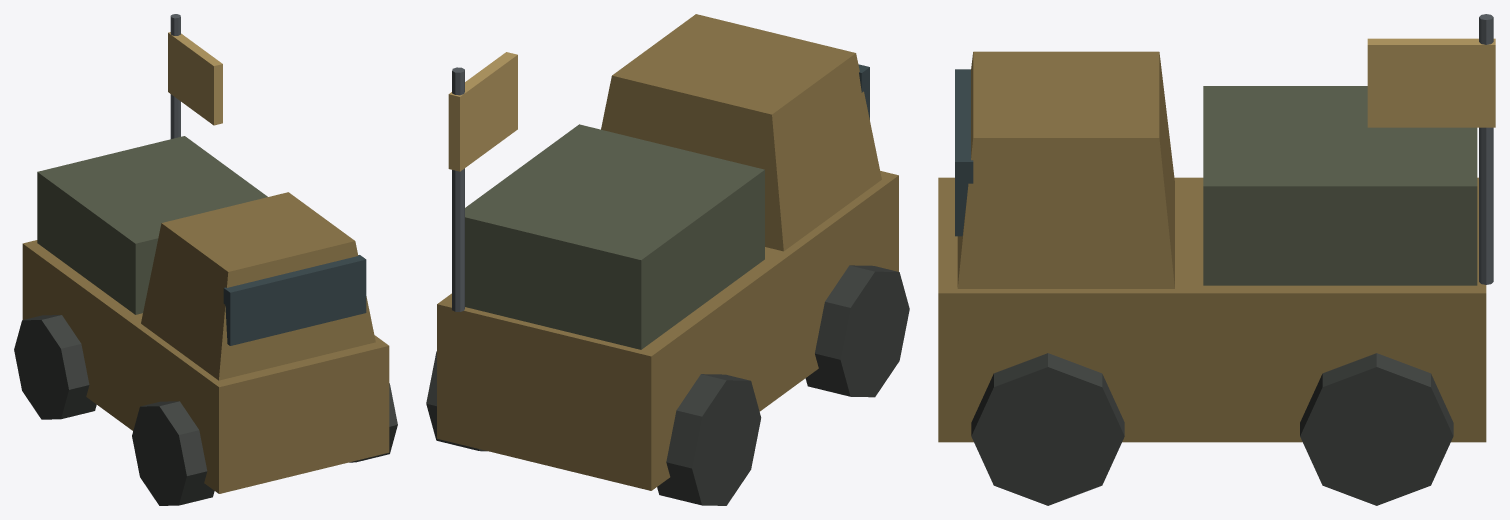
The model's file is wm_party_player.glb.
3 renders of one model, left to right at view 1: azimuth 30°, elevation 25°; view 2: azimuth 150°, elevation 25°; view 3: azimuth 270°, elevation 25°, orthographic. The views are drawn at different scales.
Visible parts, largest first — view 1: hull, cab, load, glass, wheel2, wheel0, flag, pole, wheel1; view 2: hull, load, cab, wheel0, wheel2, flag, pole, wheel3; view 3: hull, load, cab, wheel1, wheel3, flag, pole, glass.
Part boxes in pixels (x1,y1,x2,y2): hull: [22, 240, 389, 493]; cab: [141, 192, 375, 380]; load: [37, 136, 267, 314]; glass: [223, 255, 366, 345]; wheel2: [14, 315, 96, 419]; wheel0: [132, 401, 214, 505]; flag: [168, 32, 222, 125]; pole: [170, 14, 180, 138]; wheel1: [349, 383, 397, 462]; hull: [437, 171, 898, 490]; load: [465, 124, 764, 349]; cab: [601, 14, 881, 251]; wheel0: [805, 265, 909, 397]; wheel2: [657, 374, 761, 505]; flag: [448, 52, 517, 171]; pole: [452, 67, 464, 311]; wheel3: [426, 351, 487, 451]; hull: [938, 177, 1486, 442]; load: [1203, 86, 1477, 285]; cab: [957, 51, 1174, 288]; wheel1: [971, 353, 1124, 505]; wheel3: [1300, 353, 1453, 505]; flag: [1367, 38, 1495, 127]; pole: [1479, 14, 1493, 284]; glass: [955, 69, 973, 236].
Bounding box in the file's own units: 1.86 × 2.8 × 3.05.
